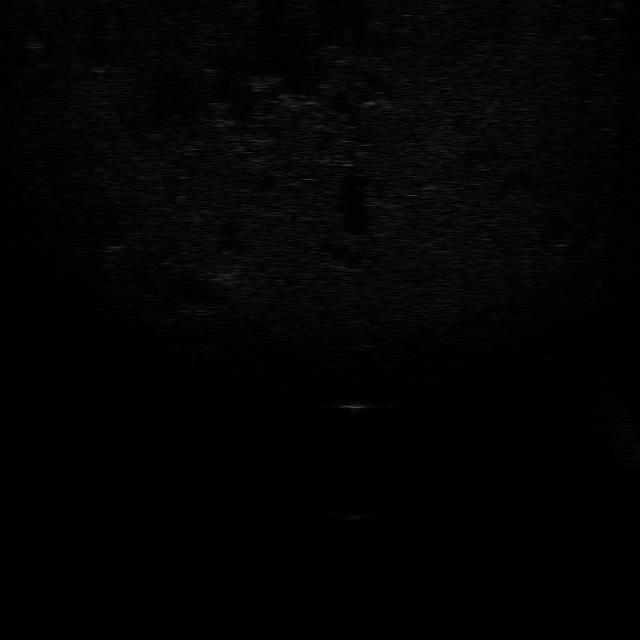cube: (327, 508, 372, 524)
square cage: (335, 398, 376, 415)
